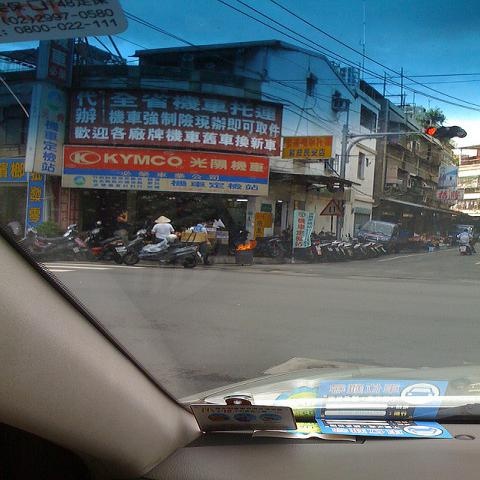motorcycle: (115, 229, 199, 269), (19, 223, 98, 264), (295, 238, 332, 262), (345, 234, 374, 259), (102, 236, 126, 264), (328, 242, 350, 262), (349, 238, 366, 260), (282, 226, 293, 251), (368, 243, 380, 258), (343, 241, 352, 258), (374, 244, 386, 255), (458, 245, 470, 255)
